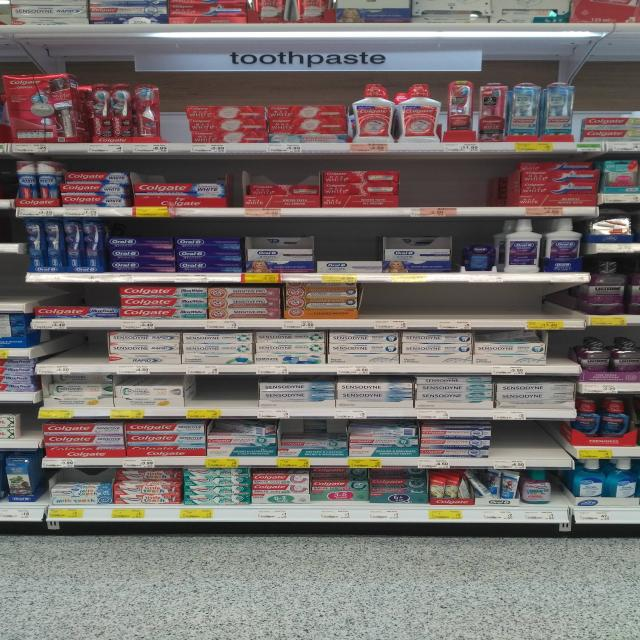empty: (363, 286, 566, 314), (399, 164, 513, 206), (42, 327, 103, 362), (494, 425, 562, 455), (154, 88, 193, 139), (186, 371, 256, 399), (5, 248, 29, 304)
